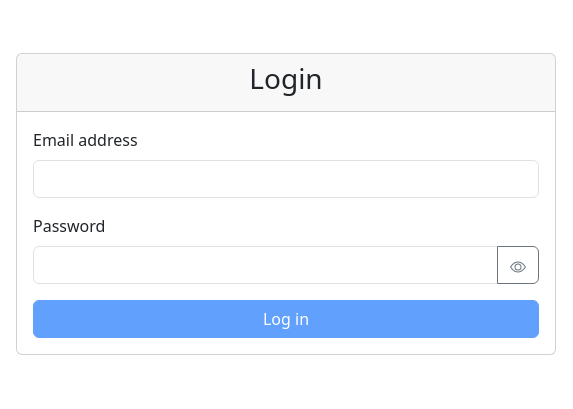
Test: LoginPage unhappy paths › on 401 shows an inline server error above the form; no toast; store untouched
Type "a@b.com" into the field labelled "Email address" at (286, 179), box [33,160,539,198]
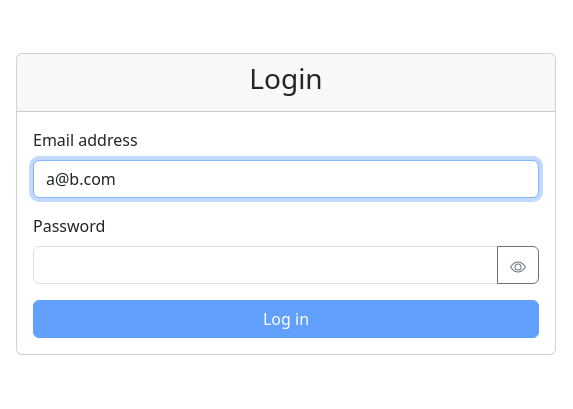
Type "badpass" into the password field labelled "Password" at (266, 265), box [33,246,498,284]
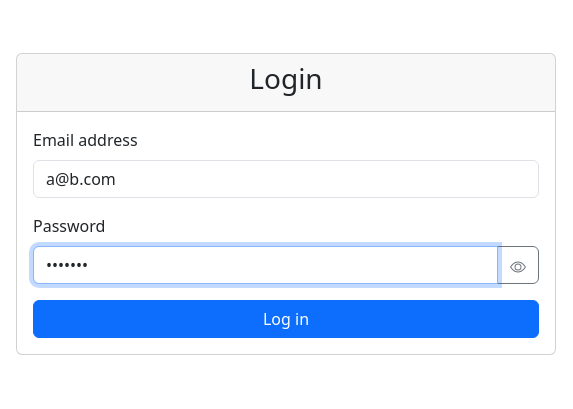
Click the button "Log in" at (286, 319), box [33,300,539,338]
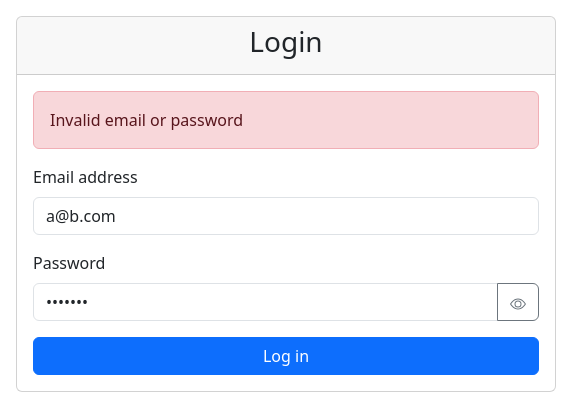
Expected: the text "Invalid email or password" is shown, [33,91,539,149]
